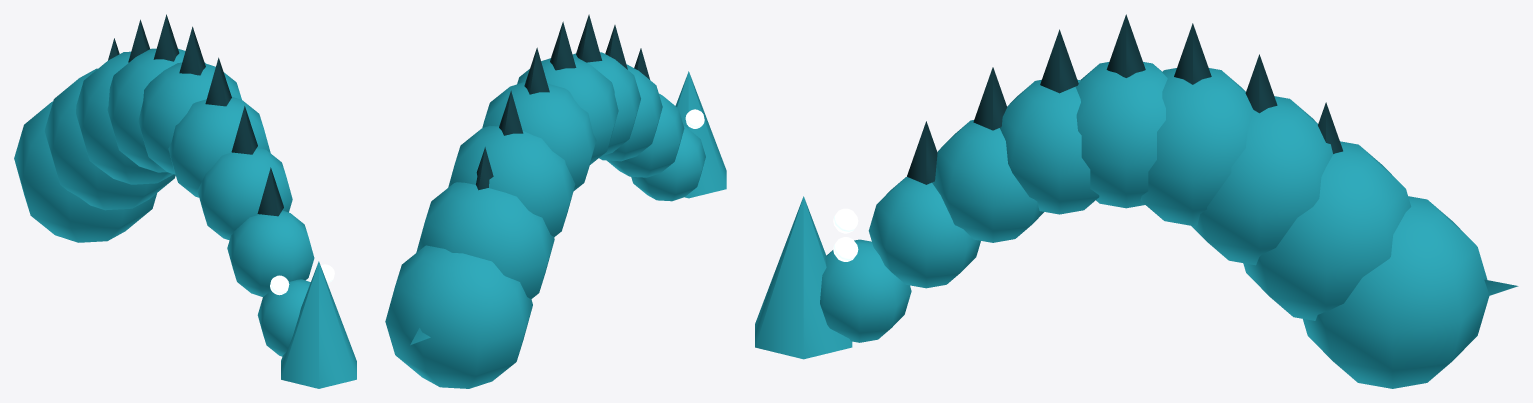
Rendered from leviathan.glb.
The picture shows the model from 3 angles, left to right: view 1: azimuth 30°, elevation 25°; view 2: azimuth 150°, elevation 25°; view 3: azimuth 270°, elevation 25°; orthographic projection. The views are drawn at different scales.
Parts seen in each view (by area): view 1: leviathan; view 2: leviathan; view 3: leviathan.
Part boxes in pixels (x1,y1,x2,y2): leviathan: [14, 14, 356, 388]; leviathan: [385, 14, 726, 388]; leviathan: [755, 14, 1518, 388].
Bounding box in the file's own units: 0.7 × 1.44 × 2.72.
